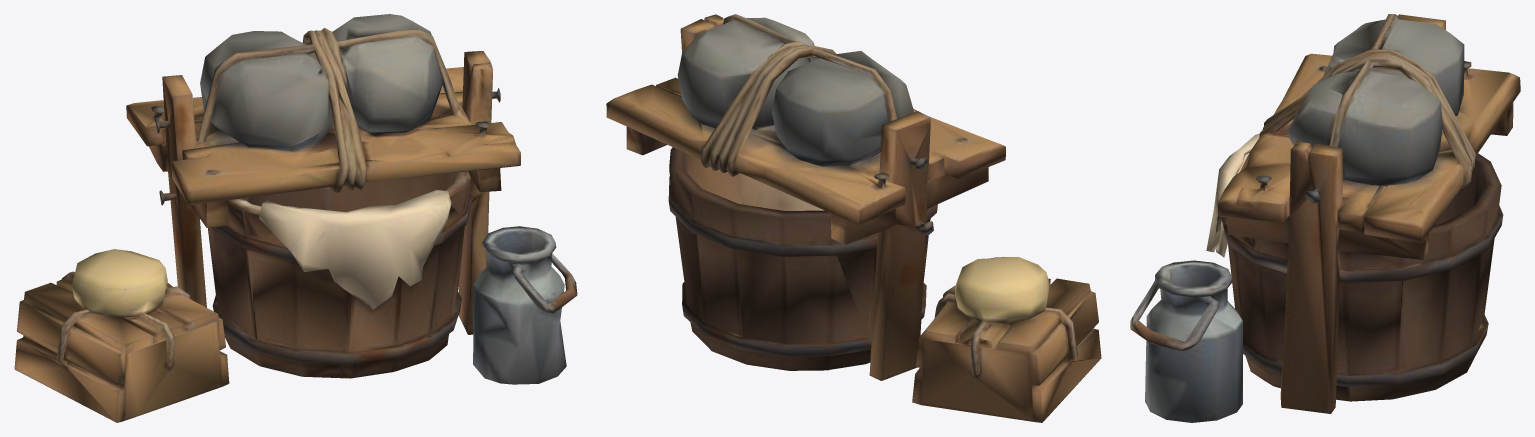
Rendered from nainao-1.glb.
3 views of the same model, side by side, from view 1: azimuth 30°, elevation 25°; view 2: azimuth 150°, elevation 25°; view 3: azimuth 270°, elevation 25° (orthographic). The views are drawn at different scales.
Visible parts, largest first — view 1: node_0; view 2: node_0; view 3: node_0.
Boxes of the visible parts, left/top/right/bottom form: node_0: left=14, top=14, right=577, bottom=422; node_0: left=606, top=14, right=1101, bottom=422; node_0: left=1130, top=14, right=1520, bottom=422.
Bounding box in the file's own units: 0.9559 × 0.5892 × 0.6966.
1 material, 1 textured.
